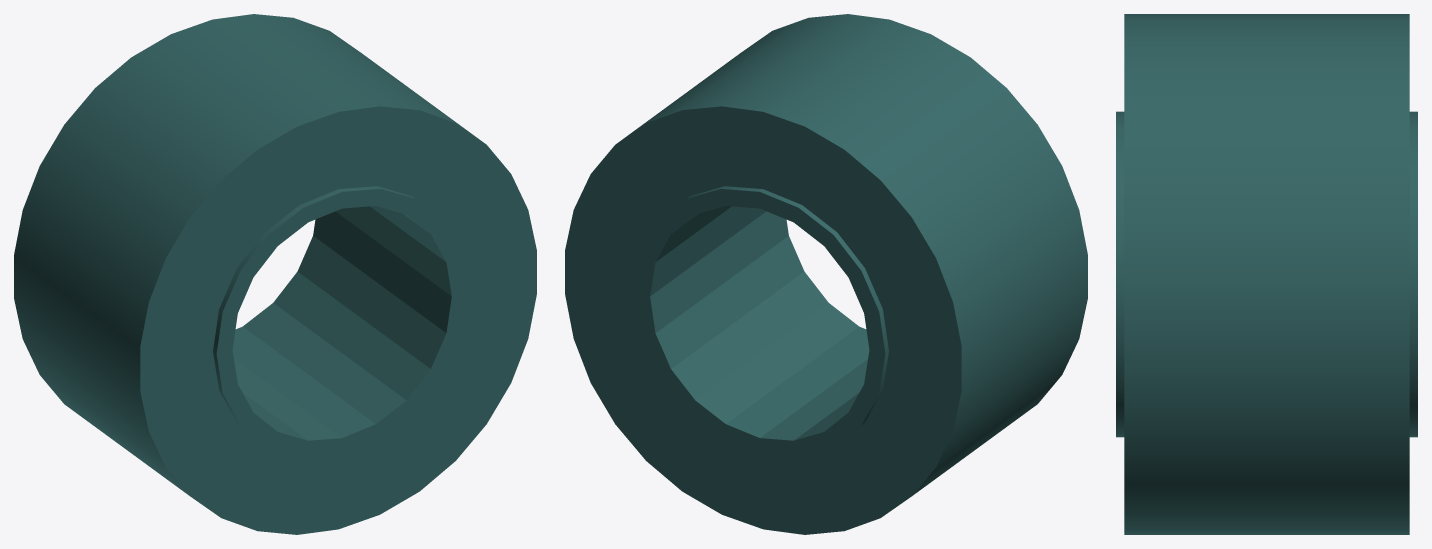
File: S_tape low.fbx
The picture shows the model from 3 angles, left to right: view 1: azimuth 30°, elevation 25°; view 2: azimuth 150°, elevation 25°; view 3: azimuth 270°, elevation 25°; orthographic projection. The views are drawn at different scales.
Visible parts, largest first — view 1: Stape_02_low, Stape_01_low; view 2: Stape_02_low, Stape_01_low; view 3: Stape_02_low, Stape_01_low.
Boxes of the visible parts, x1,y1,x2,y2 form: Stape_02_low: (14, 14, 536, 534); Stape_01_low: (213, 186, 467, 457); Stape_02_low: (565, 14, 1087, 534); Stape_01_low: (634, 186, 888, 457); Stape_02_low: (1124, 14, 1409, 534); Stape_01_low: (1116, 111, 1417, 437).
Bounding box in the file's own units: 11.05 × 11.11 × 6.43.
